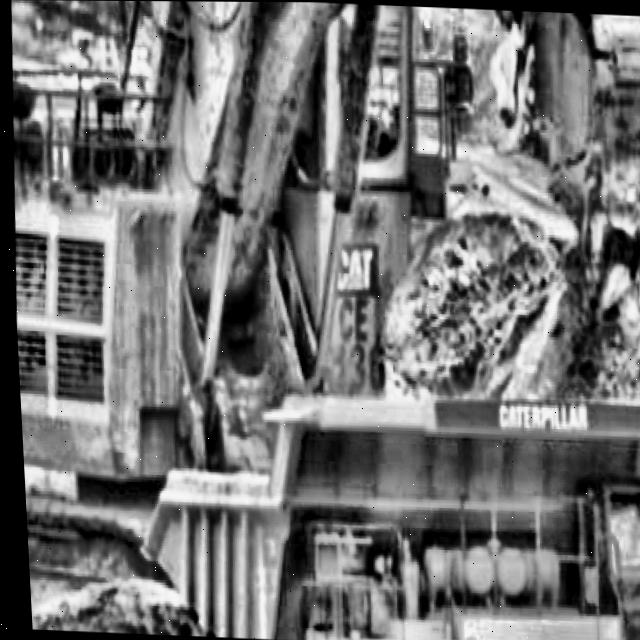dump_truck: (125, 306, 640, 640)
excavator: (0, 0, 640, 640)
